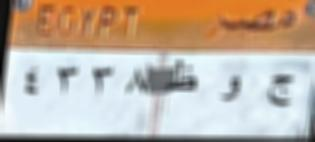3: (85, 60, 117, 101), (52, 62, 82, 103)
4: (21, 66, 46, 109)
8: (123, 63, 150, 101)
Thaa: (161, 54, 200, 102)
jeem: (255, 63, 304, 115)
waw: (208, 71, 245, 112)
